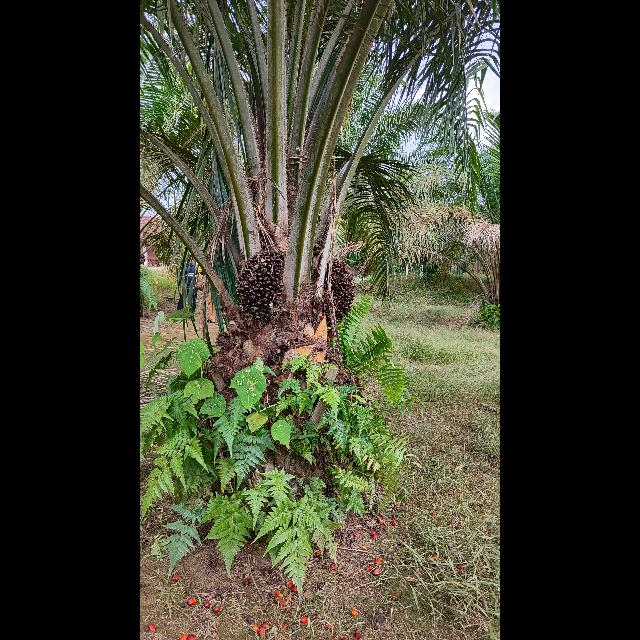Unripe: (235, 249, 285, 322), (332, 260, 355, 323)
